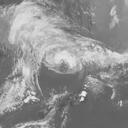cyclone: (7, 5, 84, 74)
